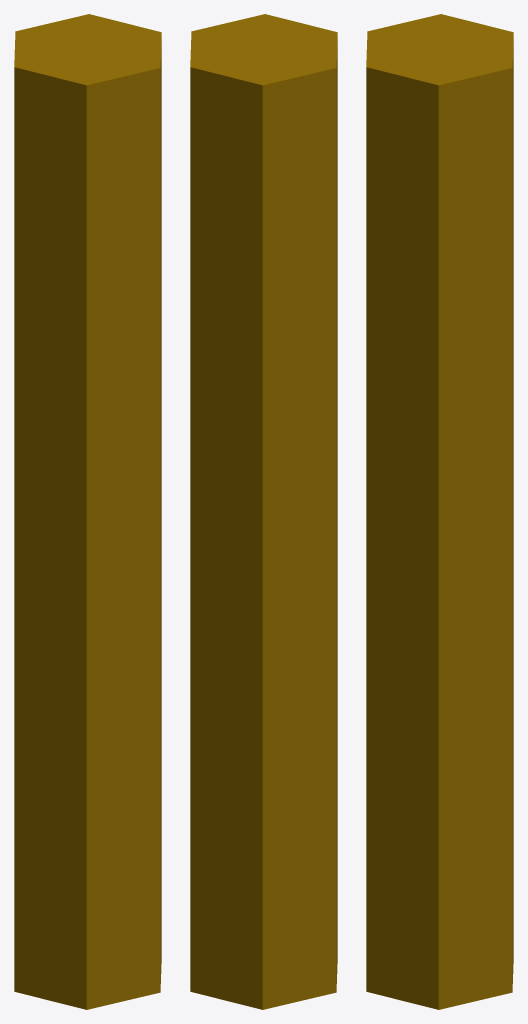
Rendered from Vegetation_Modular_Tree_Trunk_Alpine_06.fbx.
3 renders of one model, left to right at view 1: azimuth 30°, elevation 25°; view 2: azimuth 150°, elevation 25°; view 3: azimuth 270°, elevation 25°, orthographic.
Visible parts, largest first — view 1: Vegetation_Modular_Tree_Trunk_Alpine_06; view 2: Vegetation_Modular_Tree_Trunk_Alpine_06; view 3: Vegetation_Modular_Tree_Trunk_Alpine_06.
Part boxes in pixels (x1,y1,x2,y2): Vegetation_Modular_Tree_Trunk_Alpine_06: [14, 14, 161, 1009]; Vegetation_Modular_Tree_Trunk_Alpine_06: [190, 14, 337, 1009]; Vegetation_Modular_Tree_Trunk_Alpine_06: [366, 14, 513, 1009].
Size of the model in its own units: 13.54 by 81.8 by 11.82.
